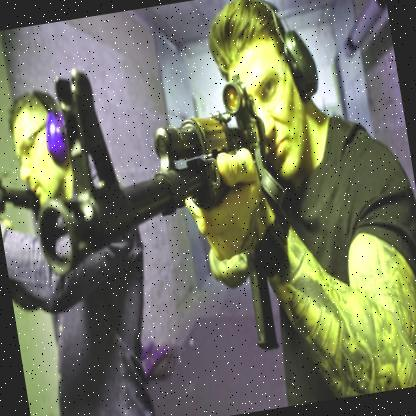rifle: (19, 63, 307, 386)
